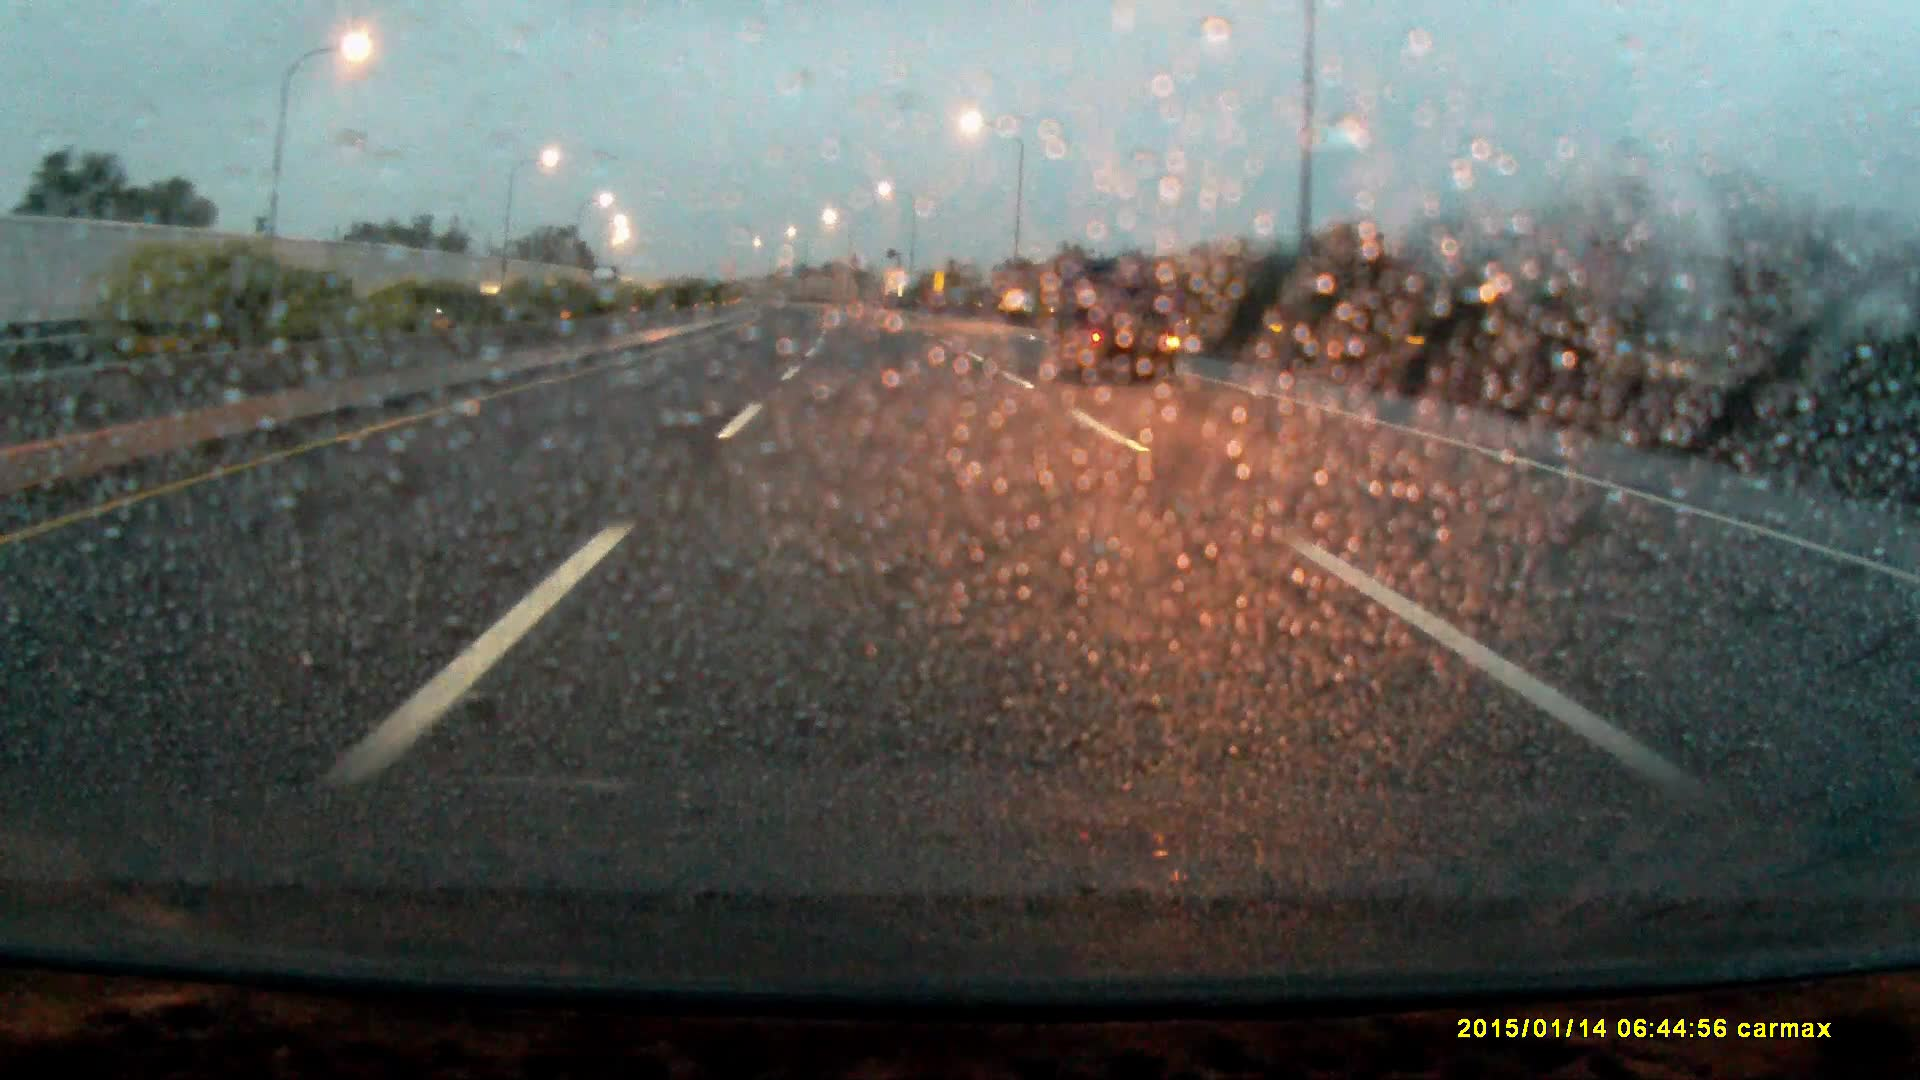vehicle: (1051, 258, 1184, 389), (588, 266, 620, 303)
